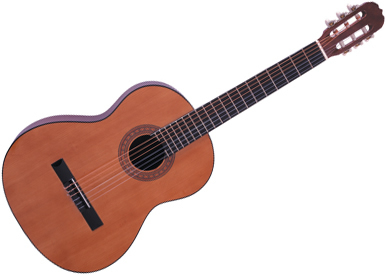guitar: (1, 1, 385, 274)
